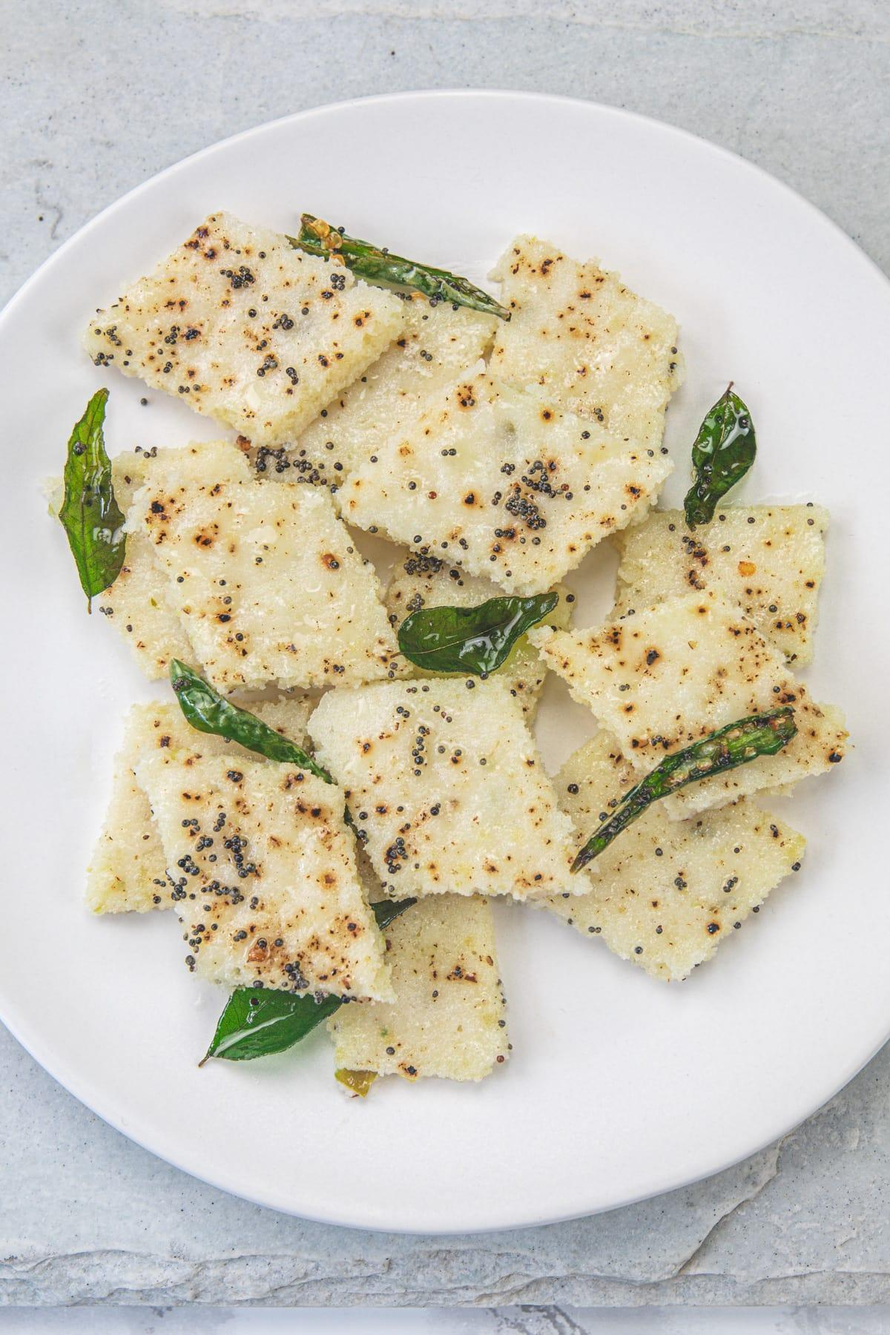dhokla: (85, 224, 890, 1060)
